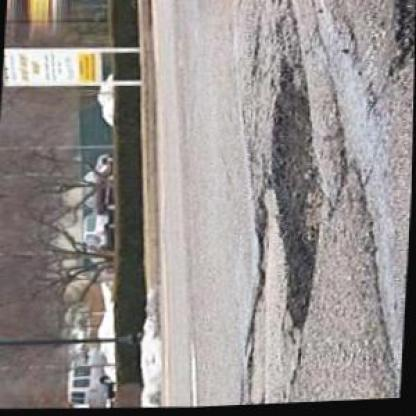pothole: (262, 71, 330, 333)
